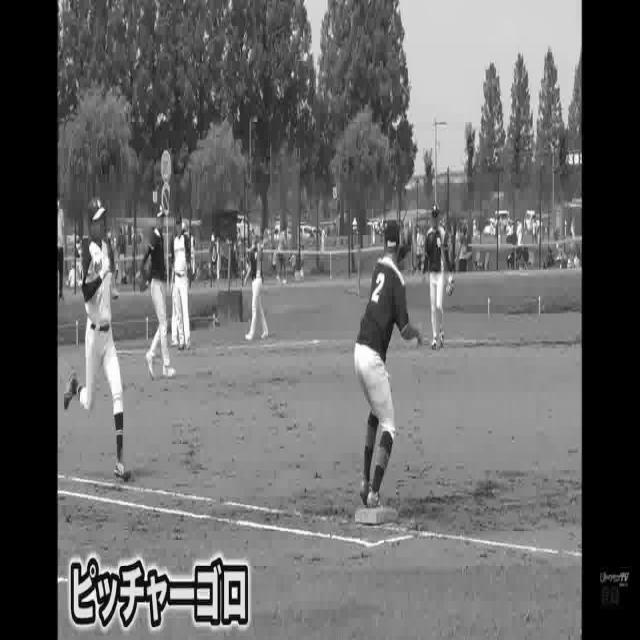base: (354, 501, 396, 528)
baseball_glove: (395, 222, 413, 268), (136, 270, 152, 296)
shoe: (357, 464, 375, 506), (64, 366, 78, 414), (359, 486, 385, 510), (110, 456, 130, 482)
